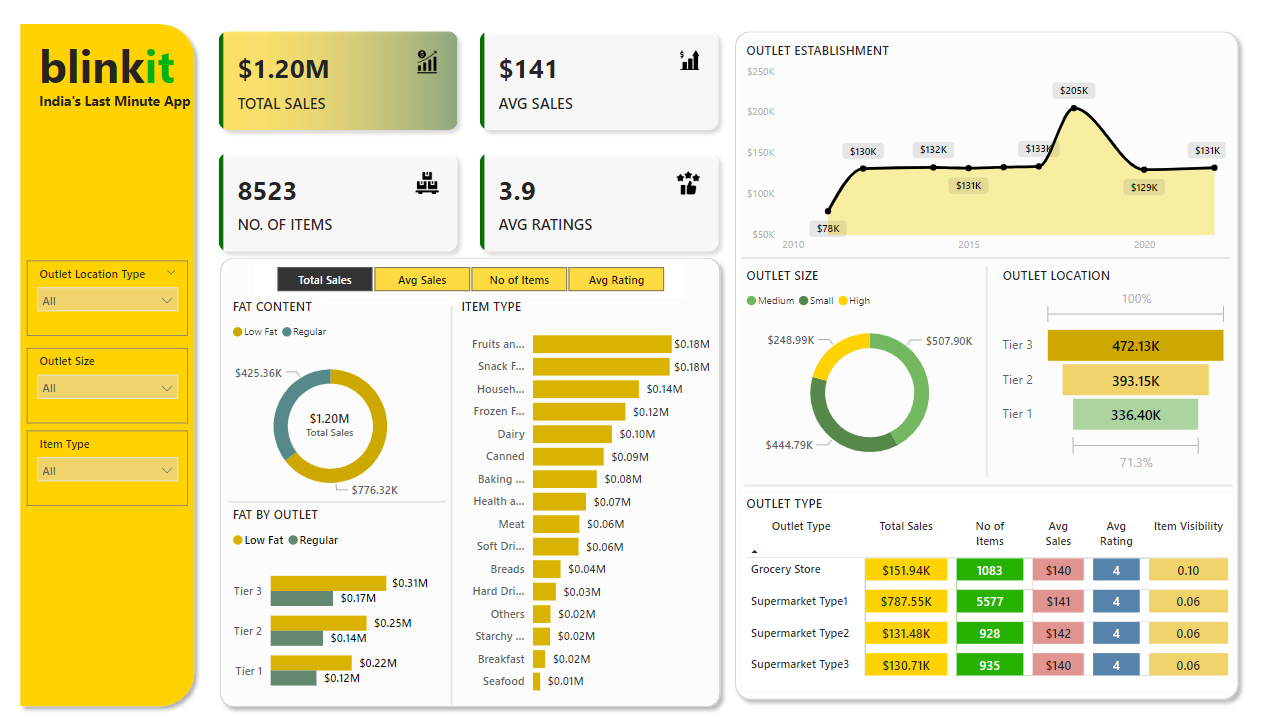

The dashboard page shown, as its layout file describes it:
{"tool":"powerbi","page":{"name":"Page 1","canvas":[1400,800],"ordinal":0},"visuals":[{"type":"shape","box":[15.1,24.7,205,750],"z":0},{"type":"textbox","box":[38.6,40,181.4,82.9],"z":1000},{"type":"textbox","box":[38.4,100.2,181.1,48],"z":2000},{"type":"cardVisual","fields":{"Data":["BlinkIT Grocery Data.Total Sales","BlinkIT Grocery Data.Avg Sales","BlinkIT Grocery Data.No of Items","BlinkIT Grocery Data.Avg Rating"]},"box":[220,24.3,570,270],"z":3000},{"type":"shape","box":[228.6,274.3,554.3,500],"z":4000},{"type":"donutChart","title":"FAT CONTENT","fields":{"Y":["BlinkIT Grocery Data.Total Sales"],"Category":["BlinkIT Grocery Data.Item Fat Content"]},"box":[246,327,220,230],"z":5000},{"type":"slicer","fields":{"Values":["Metrics.Metrics"]},"box":[274,287,465,40],"z":6000},{"type":"cardVisual","fields":{"Data":["BlinkIT Grocery Data.Total Sales"]},"box":[310,423,92,77],"z":7000},{"type":"clusteredBarChart","title":"FAT BY OUTLET","fields":{"Y":["BlinkIT Grocery Data.Total Sales"],"Category":["BlinkIT Grocery Data.Outlet Location Type"],"Series":["BlinkIT Grocery Data.Item Fat Content"]},"box":[246.7,549.6,219.8,217.2],"z":8000},{"type":"shape","box":[246.7,537.5,233.2,16.1],"z":9000},{"type":"shape","box":[479.5,335.9,12.8,426.9],"z":9001},{"type":"barChart","title":"ITEM TYPE","fields":{"Category":["BlinkIT Grocery Data.Item Type"],"Y":["BlinkIT Grocery Data.Total Sales"]},"box":[492.3,326.9,276.9,435.9],"z":9002},{"type":"shape","box":[781.5,32.2,557.6,734.6],"z":9003},{"type":"lineChart","title":"OUTLET ESTABLISHMENT","fields":{"Y":["BlinkIT Grocery Data.Total Sales"],"Category":["BlinkIT Grocery Data.Outlet Establishment Year"]},"box":[797.6,52.3,524.1,234.6],"z":9004},{"type":"shape","box":[797.6,274.8,524.1,18.8],"z":9005},{"type":"donutChart","title":"OUTLET SIZE","fields":{"Y":["BlinkIT Grocery Data.Total Sales"],"Category":["BlinkIT Grocery Data.Outlet Size"]},"box":[797.6,293.6,274.8,225.2],"z":9006},{"type":"shape","box":[1050.9,293.6,18.8,225.2],"z":9007},{"type":"funnel","title":"OUTLET LOCATION","fields":{"Y":["Sum(BlinkIT Grocery Data.Sales)"],"Category":["BlinkIT Grocery Data.Outlet Location Type"]},"box":[1072.4,293.6,252,225.2],"z":9008},{"type":"shape","box":[800.3,518.8,524.1,18.8],"z":9009},{"type":"pivotTable","title":"OUTLET TYPE","fields":{"Rows":["BlinkIT Grocery Data.Outlet Type"],"Values":["BlinkIT Grocery Data.Total Sales","BlinkIT Grocery Data.No of Items","BlinkIT Grocery Data.Avg Sales","BlinkIT Grocery Data.Avg Rating","Avg(BlinkIT Grocery Data.Item Visibility)"]},"box":[797.6,537.5,526.8,210.5],"z":9010},{"type":"slicer","fields":{"Values":["BlinkIT Grocery Data.Outlet Location Type"]},"box":[30.8,286.9,172.9,80.4],"z":9011},{"type":"slicer","fields":{"Values":["BlinkIT Grocery Data.Outlet Size"]},"box":[30.8,380.7,172.9,80.4],"z":9012},{"type":"slicer","fields":{"Values":["BlinkIT Grocery Data.Item Type"]},"box":[30.8,469.2,172.9,80.4],"z":9013}]}

Visuals, with their boxes in screenshot pixels (x1, y1, x2, y2), scaled from the page's 1400x800 canvas onto the 1270x717 screenshot:
shape: <region>14, 22, 200, 694</region>
textbox: <region>35, 36, 200, 110</region>
textbox: <region>35, 90, 199, 133</region>
cardVisual - BlinkIT Grocery Data.Total Sales x BlinkIT Grocery Data.Avg Sales: <region>200, 22, 717, 264</region>
shape: <region>207, 246, 710, 694</region>
"FAT CONTENT" donutChart: <region>223, 293, 423, 499</region>
slicer - Metrics.Metrics: <region>249, 257, 670, 293</region>
cardVisual - BlinkIT Grocery Data.Total Sales: <region>281, 379, 365, 448</region>
"FAT BY OUTLET" clusteredBarChart: <region>224, 493, 423, 687</region>
shape: <region>224, 482, 435, 496</region>
shape: <region>435, 301, 447, 684</region>
"ITEM TYPE" barChart: <region>447, 293, 698, 684</region>
shape: <region>709, 29, 1215, 687</region>
"OUTLET ESTABLISHMENT" lineChart: <region>724, 47, 1199, 257</region>
shape: <region>724, 246, 1199, 263</region>
"OUTLET SIZE" donutChart: <region>724, 263, 973, 465</region>
shape: <region>953, 263, 970, 465</region>
"OUTLET LOCATION" funnel: <region>973, 263, 1201, 465</region>
shape: <region>726, 465, 1201, 482</region>
"OUTLET TYPE" pivotTable: <region>724, 482, 1201, 670</region>
slicer - BlinkIT Grocery Data.Outlet Location Type: <region>28, 257, 185, 329</region>
slicer - BlinkIT Grocery Data.Outlet Size: <region>28, 341, 185, 413</region>
slicer - BlinkIT Grocery Data.Item Type: <region>28, 421, 185, 493</region>
